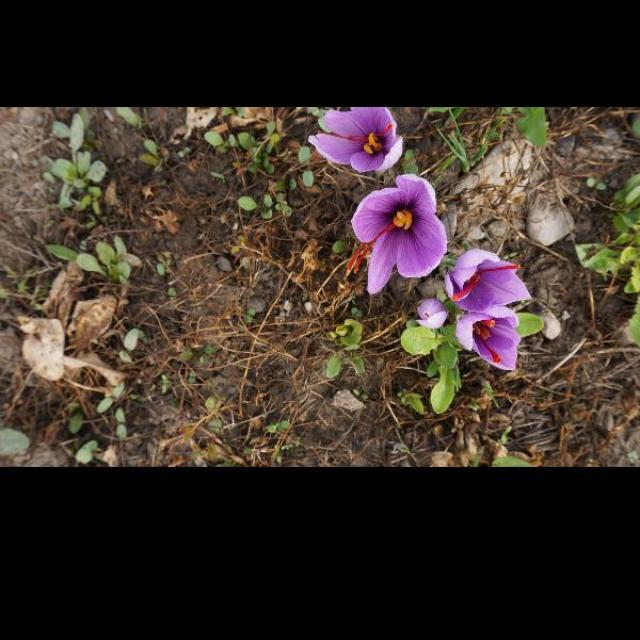flower: (346, 174, 448, 296), (306, 108, 404, 174), (444, 248, 534, 314), (454, 306, 524, 372)
